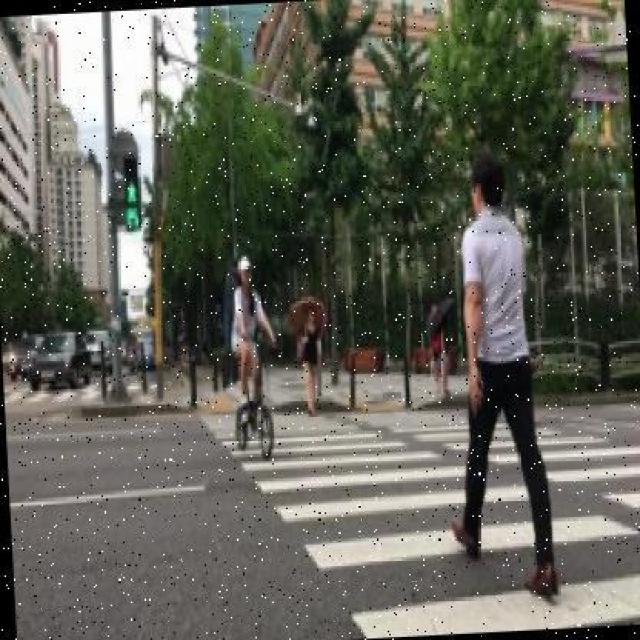Person: (438, 155, 560, 602), (296, 300, 326, 418)
